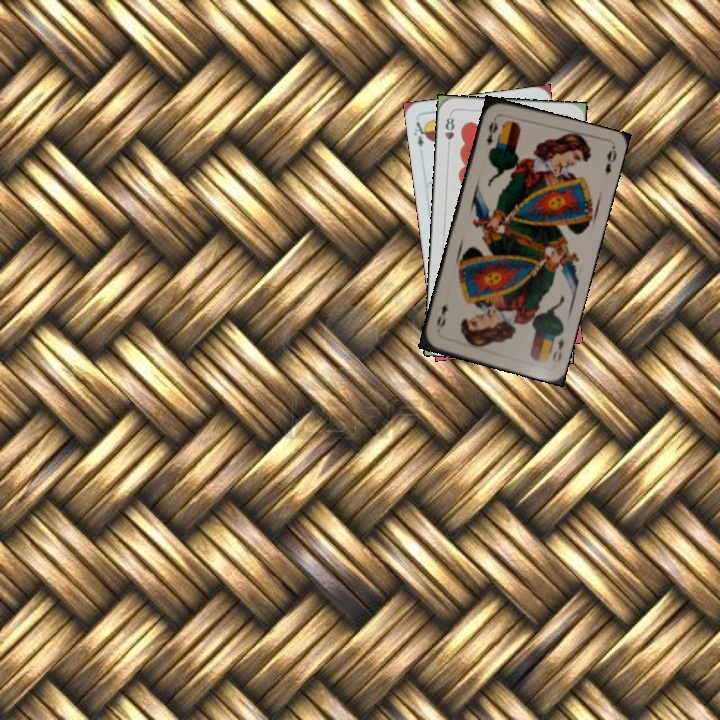EA: (410, 117, 431, 150)
EO: (548, 335, 567, 365), (483, 118, 500, 148)
H8: (441, 111, 457, 151)
